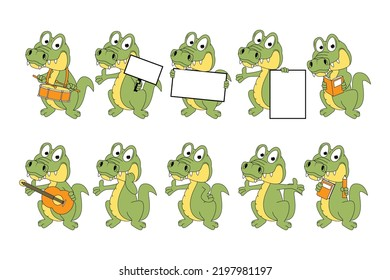animal: (163, 28, 235, 124), (237, 30, 307, 125), (159, 140, 228, 234), (25, 32, 95, 122), (94, 32, 164, 122), (307, 31, 369, 127), (93, 139, 157, 232), (238, 142, 302, 228), (27, 139, 85, 230), (308, 142, 365, 232)
